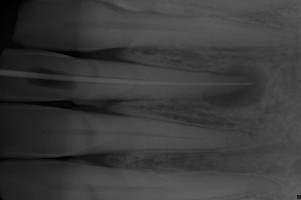Furcation Involvement: (202, 64, 266, 107)
